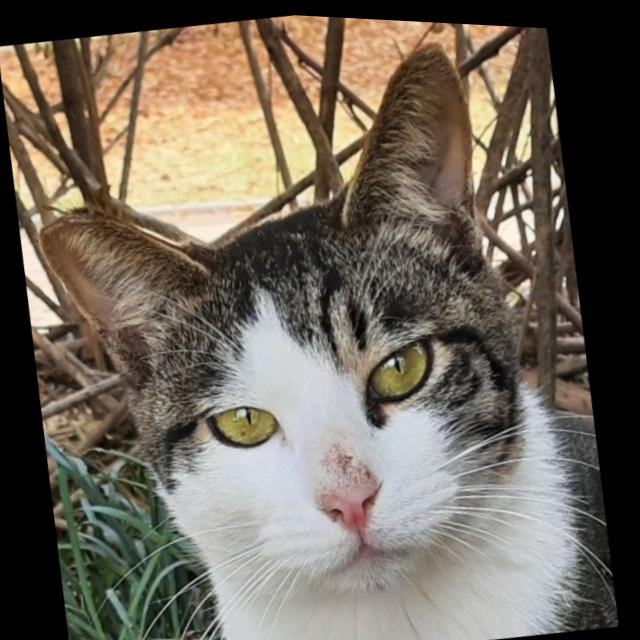animals: (0, 1, 595, 640)
